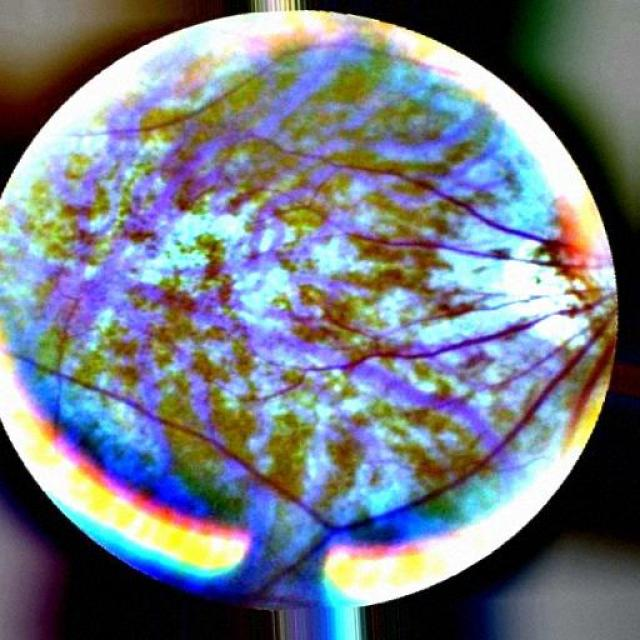Nerves: (2, 286, 618, 595), (26, 385, 164, 501), (355, 234, 585, 275), (431, 189, 571, 250)
